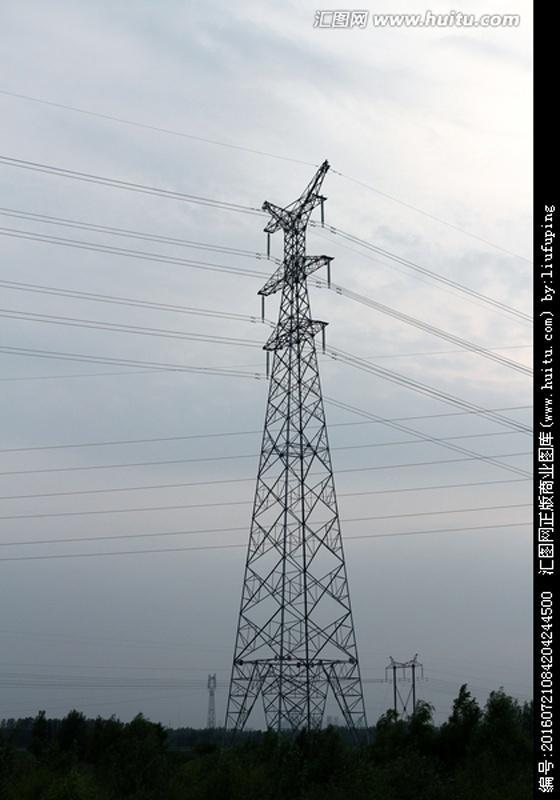power_tower: (223, 158, 369, 730), (378, 650, 426, 721), (204, 672, 220, 728)
